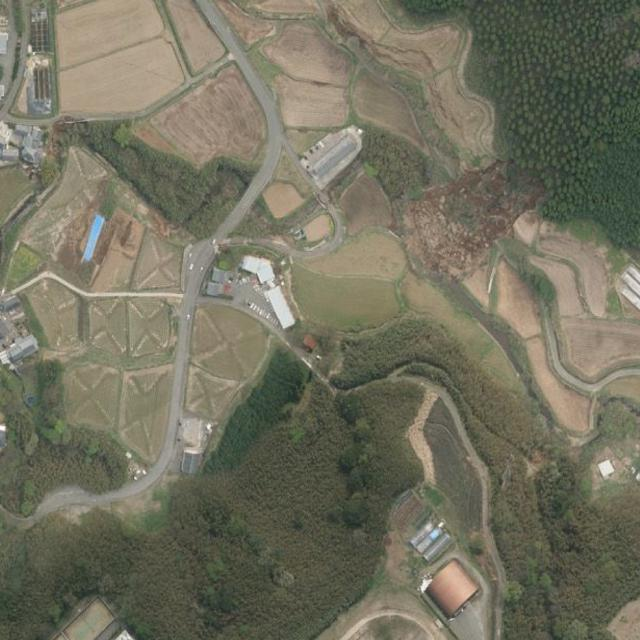landslide: (403, 161, 545, 277)
